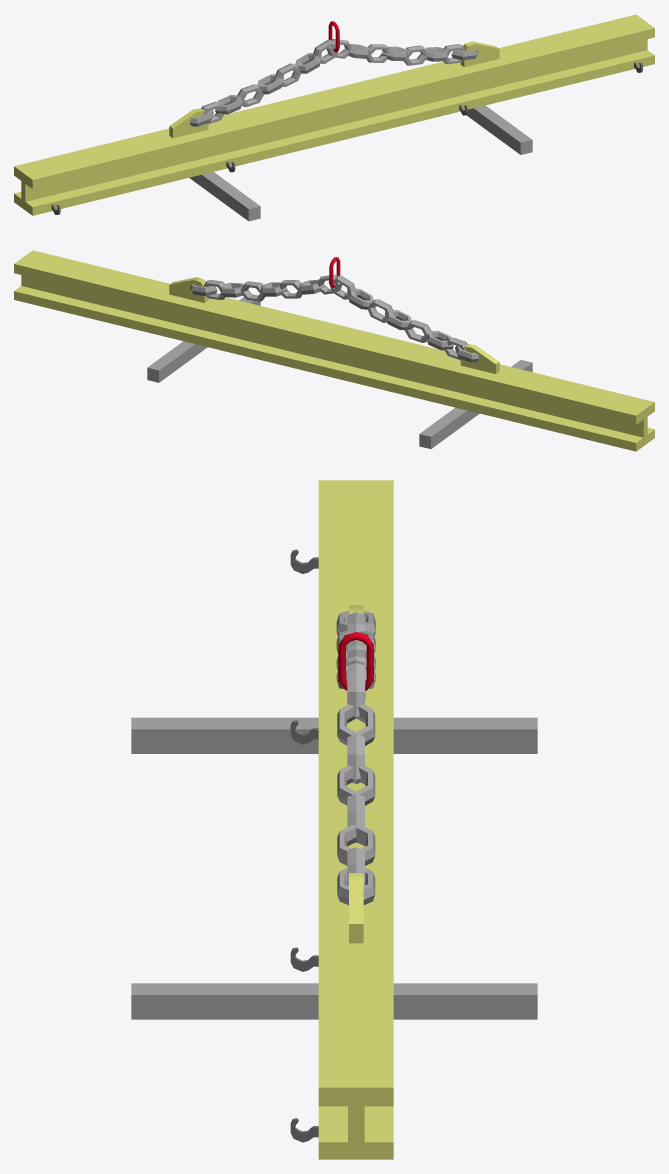
The model's file is Sandwich.fbx.
The picture shows the model from 3 angles, top to bottom: view 1: azimuth 30°, elevation 25°; view 2: azimuth 150°, elevation 25°; view 3: azimuth 270°, elevation 25°; orthographic projection. The views are drawn at different scales.
Visible parts, largest first — view 1: pCube94, pCube96, pCube95, pTorus19, pTorus16, pTorus21, pTorus17, pTorus20, pTorus18, pTorus7; view 2: pCube94, pCube96, pCube95, pTorus19, pTorus21, pTorus16, pTorus17, pTorus20, pTorus18, pTorus7; view 3: pCube94, pCube96, pCube95, pTorus13, pTorus11, pTorus12, pTorus4.
Boxes of the visible parts, box(x1,y1,x2,y2) form: pCube94: box(14, 14, 654, 215); pCube96: box(189, 105, 532, 221); pCube95: box(169, 41, 499, 138); pTorus19: box(215, 95, 242, 114); pTorus16: box(235, 84, 264, 106); pTorus21: box(295, 53, 321, 73); pTorus17: box(273, 63, 301, 86); pTorus20: box(257, 74, 284, 94); pTorus18: box(312, 40, 340, 63); pTorus7: box(403, 45, 428, 65); pCube94: box(14, 250, 654, 451); pCube96: box(147, 294, 532, 448); pCube95: box(169, 277, 499, 373); pTorus19: box(426, 330, 453, 350); pTorus21: box(347, 288, 374, 309); pTorus16: box(404, 320, 433, 342); pTorus17: box(367, 299, 395, 322); pTorus20: box(385, 310, 411, 329); pTorus18: box(328, 275, 356, 299); pTorus7: box(240, 281, 265, 301); pCube94: box(318, 480, 393, 1159); pCube96: box(131, 717, 537, 1019); pCube95: box(349, 605, 363, 943); pTorus13: box(337, 704, 375, 745); pTorus11: box(337, 825, 375, 865); pTorus12: box(337, 765, 375, 805); pTorus4: box(338, 632, 373, 690).
Bounding box in the file's own units: 854 × 163 × 241.
